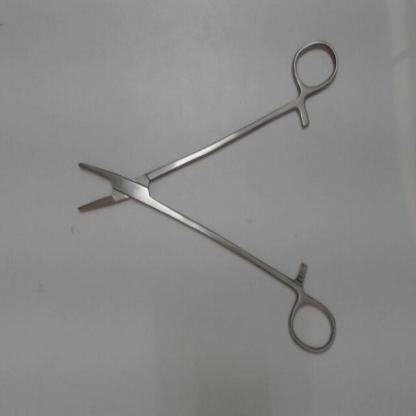8 Mayo Needle Holder: (71, 30, 348, 364)
